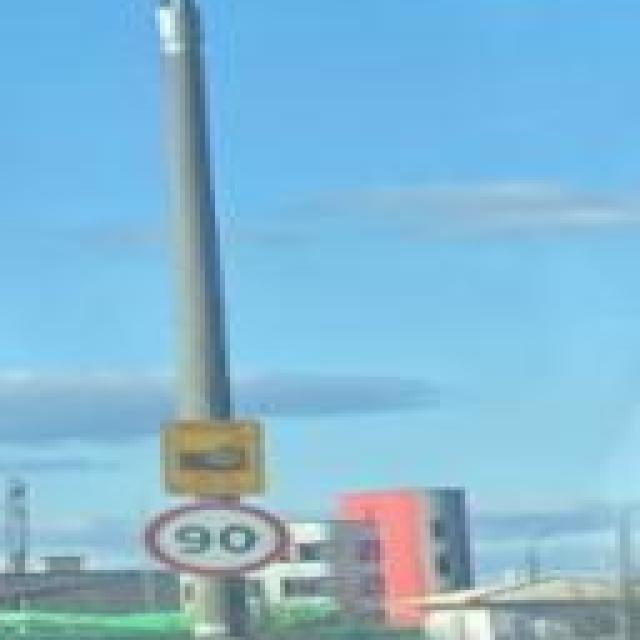Speed Limit -90-: (139, 497, 299, 580)
